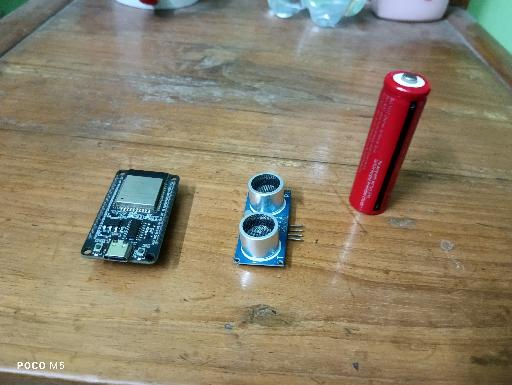Battery: (349, 70, 431, 215)
Esp32: (80, 169, 180, 265)
sensor: (233, 172, 304, 269)
